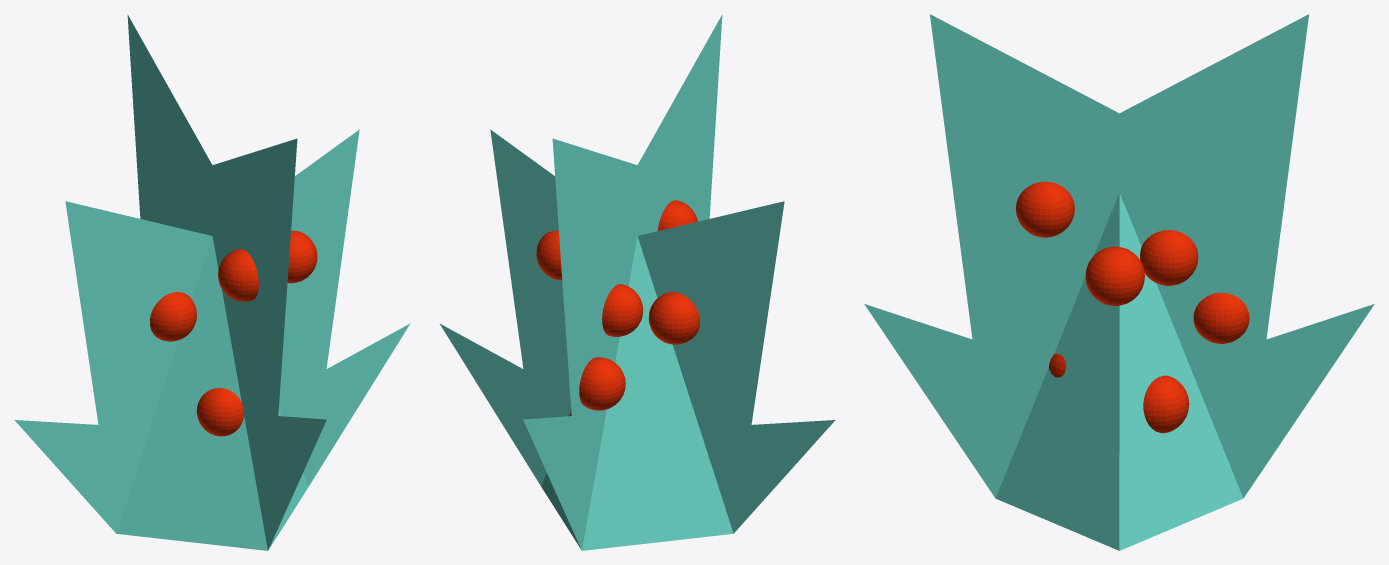
The model's file is Bush_Berry.glb.
The picture shows the model from 3 angles, left to right: view 1: azimuth 30°, elevation 25°; view 2: azimuth 150°, elevation 25°; view 3: azimuth 270°, elevation 25°; orthographic projection. The views are drawn at different scales.
Parts seen in each view (by area): view 1: Bush, Berries; view 2: Bush, Berries; view 3: Bush, Berries.
Boxes of the visible parts, box(x1,y1,x2,y2) form: Bush: box(14, 15, 410, 550); Berries: box(150, 230, 317, 436); Bush: box(439, 15, 835, 550); Berries: box(536, 200, 699, 415); Bush: box(864, 14, 1374, 550); Berries: box(1015, 181, 1249, 433).
Size of the model in its own units: 1.72 by 1.8 by 1.72.
